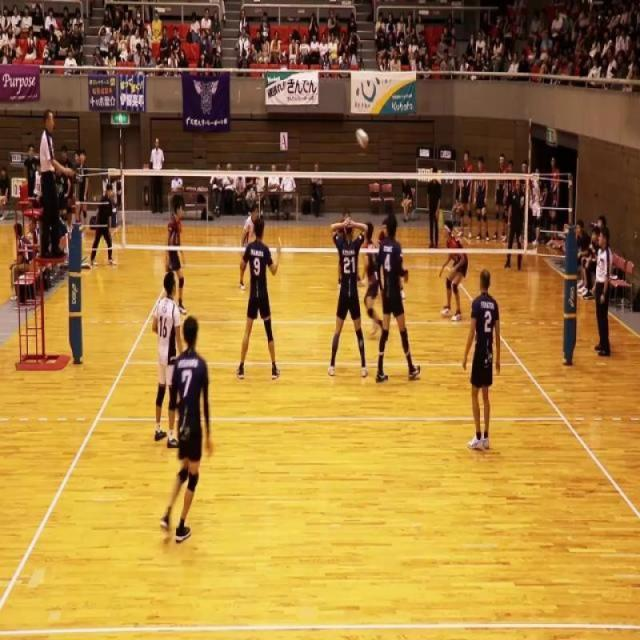volleyball: (354, 126, 370, 150)
